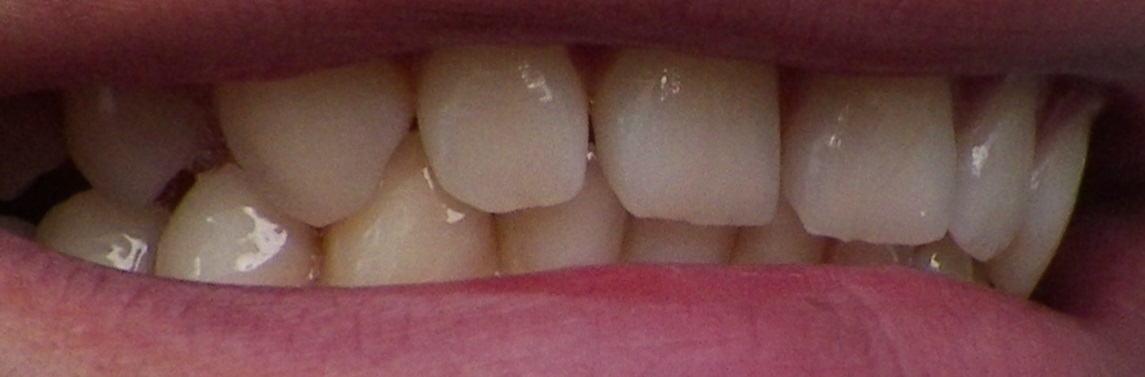boca: (68, 63, 1101, 311)
